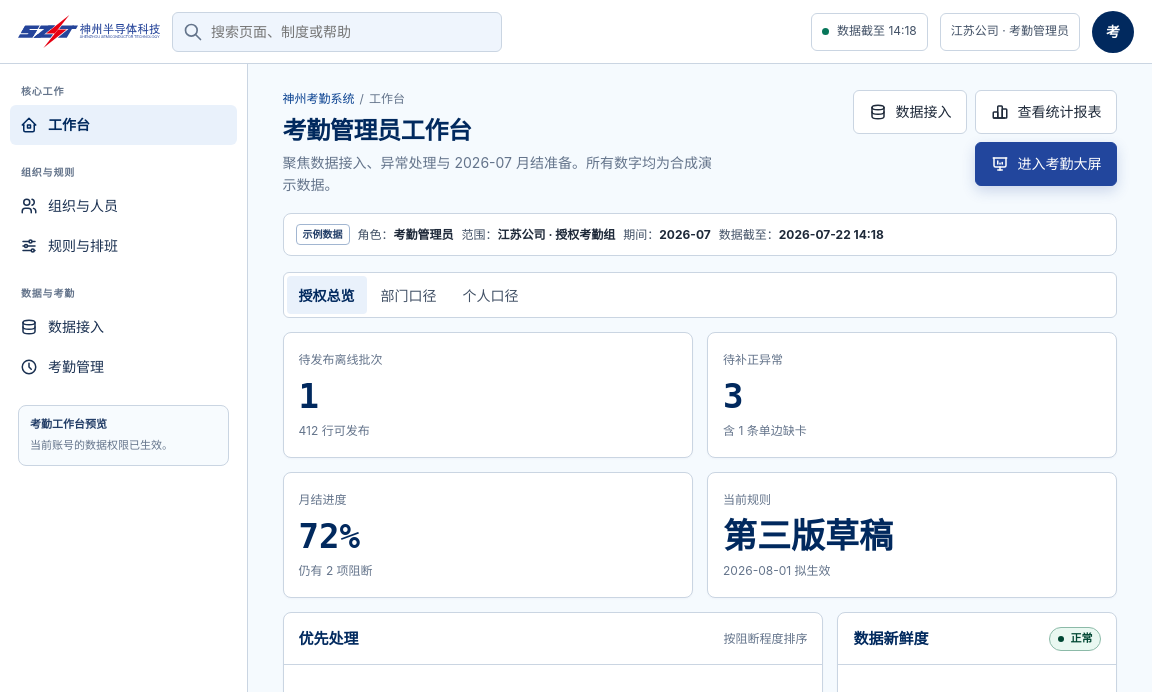
OpenDesign workbench › turns the OpenDesign search field into working page navigation
The image size is (1152, 692).
In the search field labelled "搜索页面、制度或帮助": (337, 32) left=172, top=12, right=502, bottom=52, type "报表"
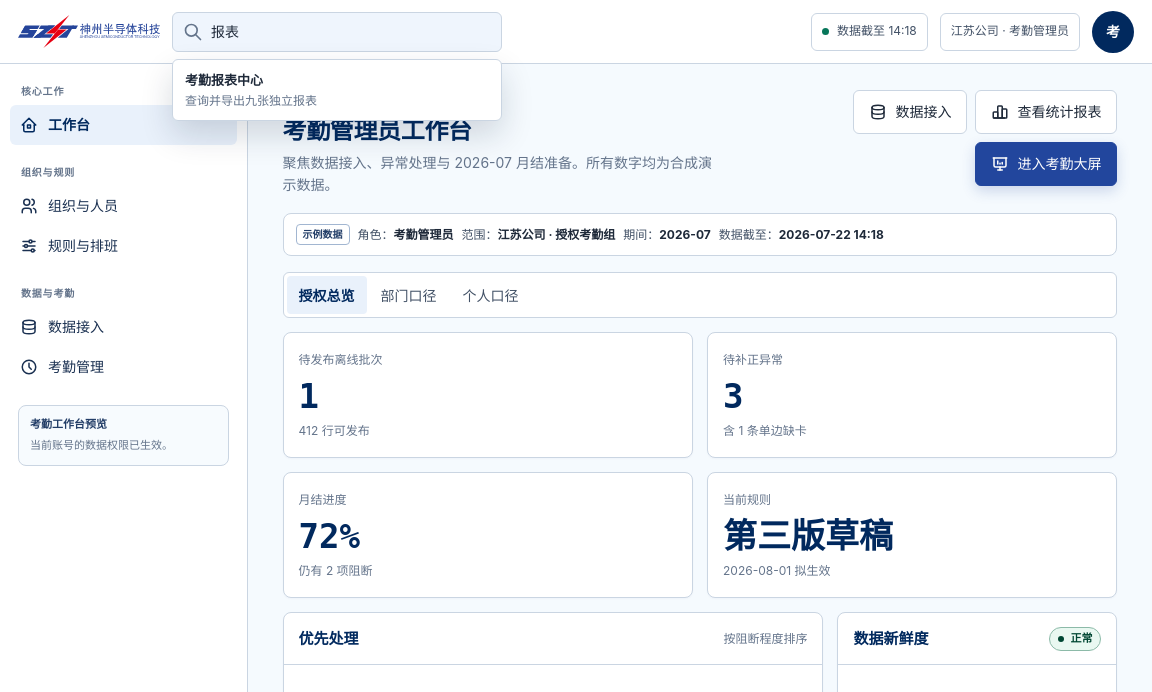
Expected: the list named "工作台搜索结果" is shown, left=172, top=58, right=502, bottom=121
